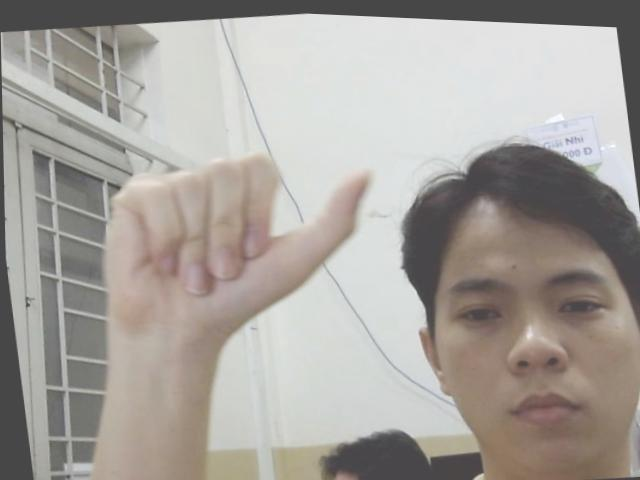A: (100, 136, 387, 334)
